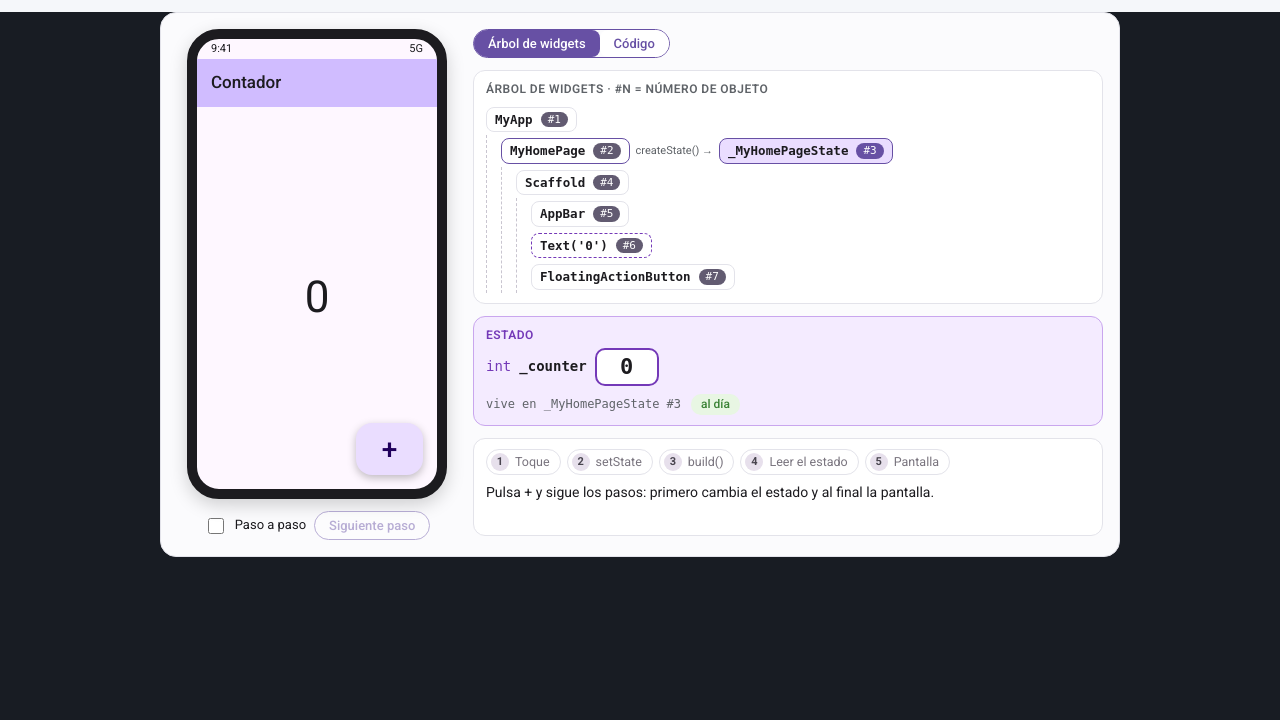
Scenario: state-tree › never loses a tap made in the middle of an animation
Click the button named "Incrementar": {"x": 389, "y": 449} [356,423,423,475]
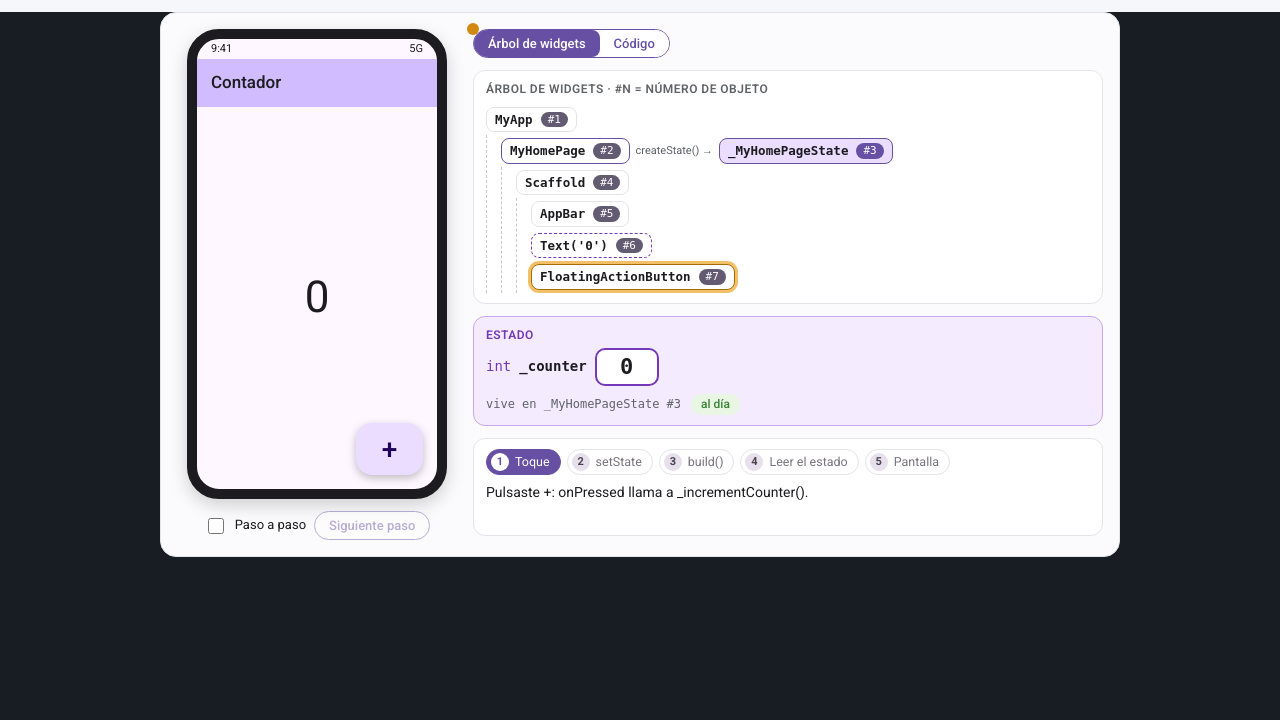
Click the button named "Incrementar": {"x": 389, "y": 449} [356,423,423,475]
Wait 6600 ms
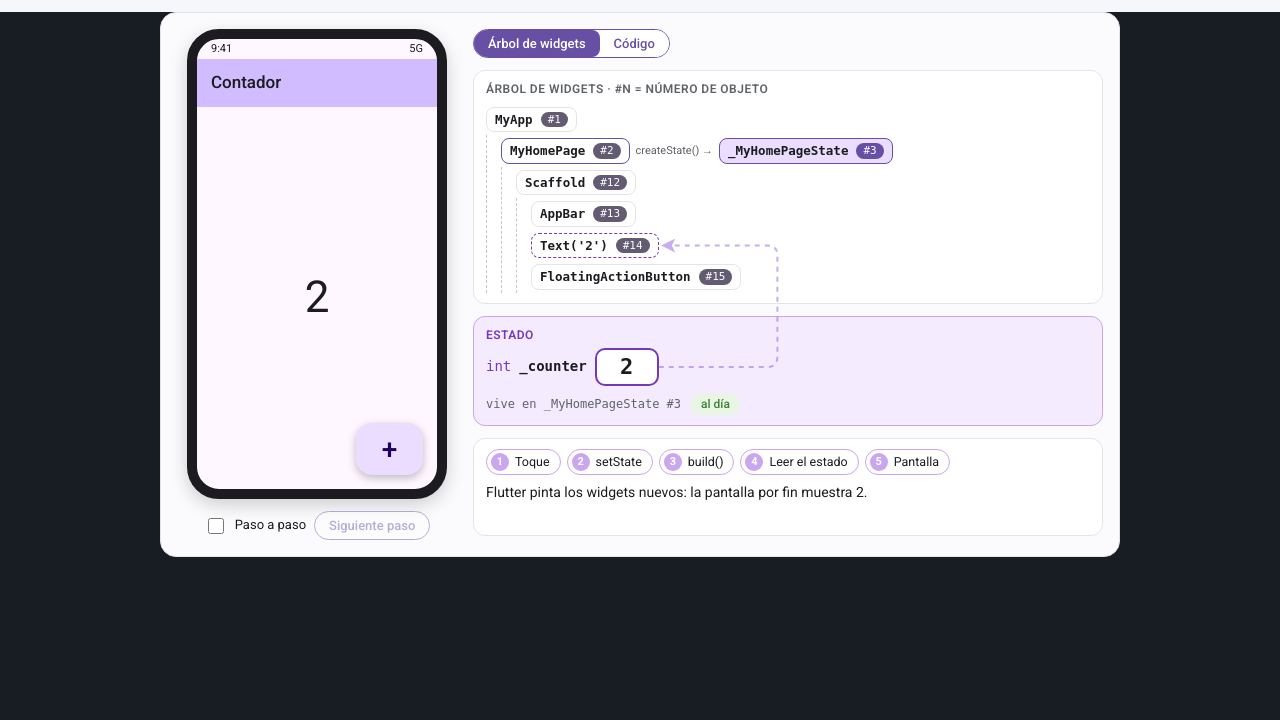
Now the text with test id "var-_counter" reads "2", box [620,354,633,379]
Now the text with test id "tree-counter" reads "2", box [305,271,329,323]
